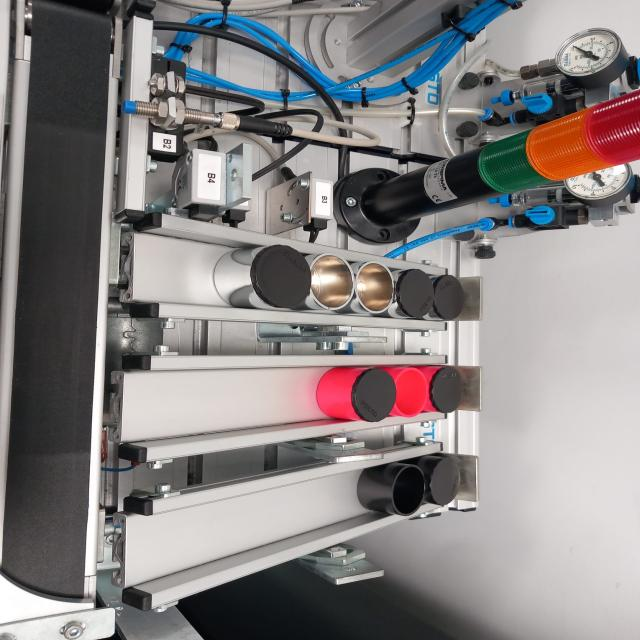NoLid: (357, 465, 430, 517), (358, 254, 398, 315), (314, 252, 355, 311), (398, 365, 431, 416)
Workpiece: (218, 245, 312, 309), (320, 366, 398, 422), (394, 264, 436, 321), (424, 455, 468, 509), (428, 364, 468, 416), (437, 269, 471, 321)
